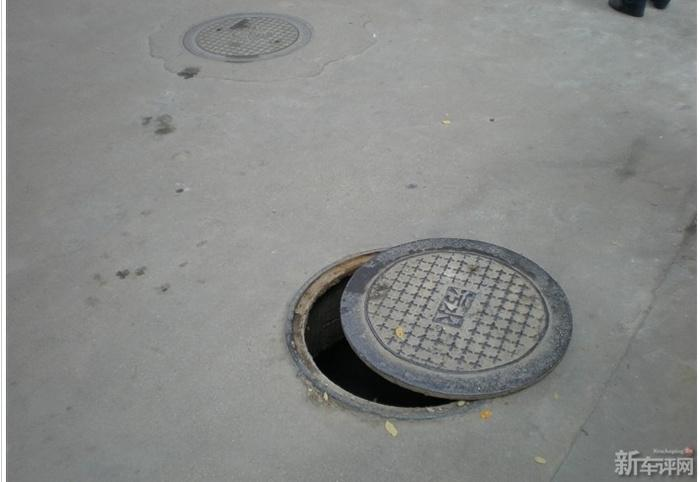wellcover: (256, 208, 625, 425), (148, 0, 323, 74)
